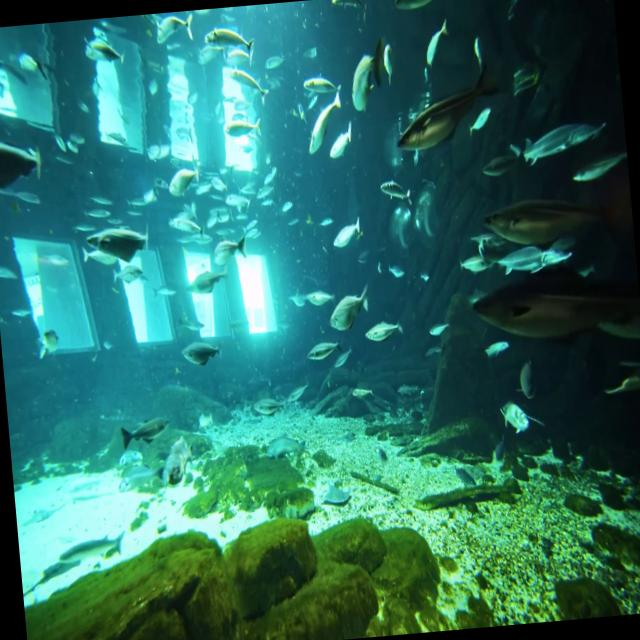fish: (464, 248, 640, 363), (378, 54, 500, 172), (468, 167, 631, 253), (498, 101, 608, 170), (152, 150, 209, 218), (200, 16, 259, 80), (86, 218, 154, 272), (0, 122, 41, 209), (114, 410, 173, 464), (301, 91, 347, 158), (342, 44, 382, 120), (416, 12, 458, 80), (228, 60, 280, 112), (496, 383, 540, 441), (72, 32, 126, 78), (182, 261, 236, 306), (300, 326, 356, 369), (150, 12, 198, 62), (330, 280, 376, 328), (324, 122, 363, 178), (178, 333, 225, 378), (361, 306, 411, 348), (204, 229, 248, 275), (298, 62, 339, 101), (394, 0, 448, 26), (375, 30, 398, 84), (478, 334, 517, 364), (309, 282, 340, 310)
